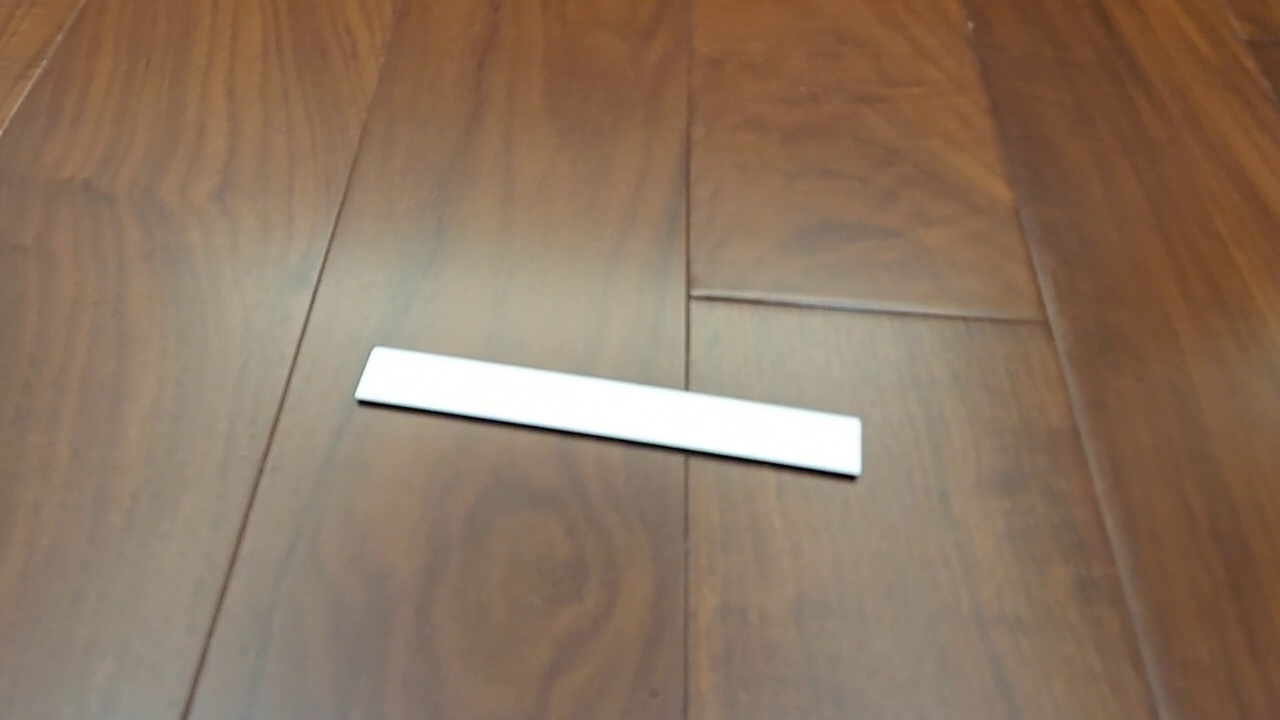ruler: (352, 345, 863, 478)
